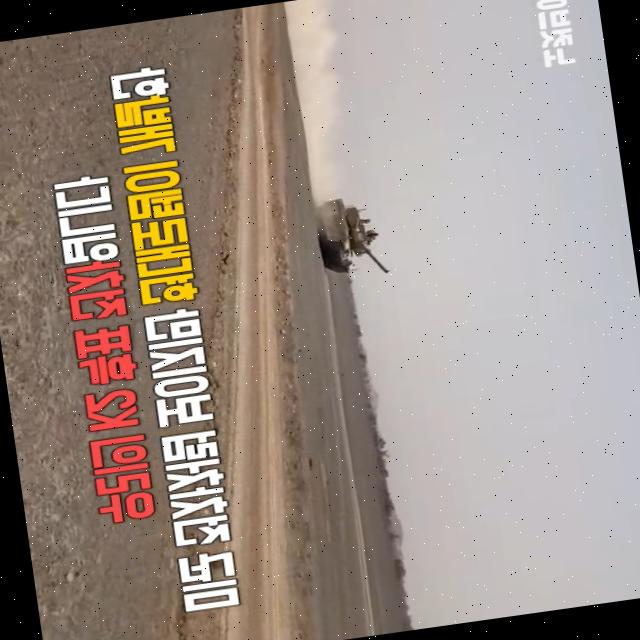korea tank: (312, 193, 389, 283)
